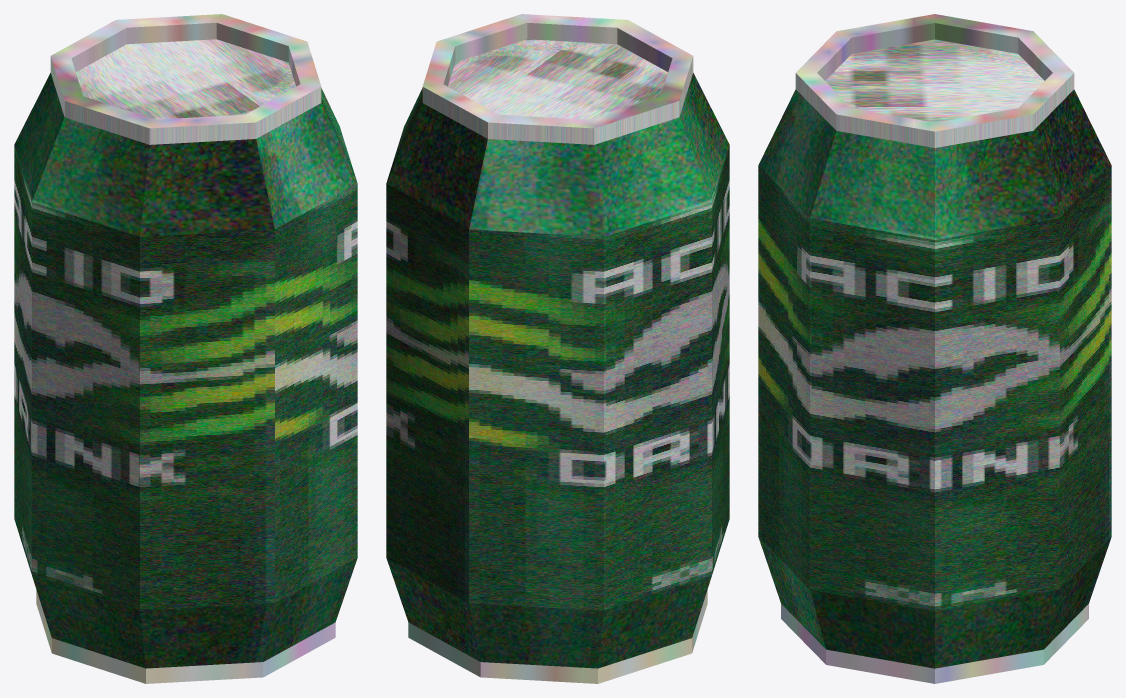
File: acid_green.glb
3 views of the same model, side by side, from view 1: azimuth 30°, elevation 25°; view 2: azimuth 150°, elevation 25°; view 3: azimuth 270°, elevation 25° (orthographic).
Parts seen in each view (by area): view 1: bottel02; view 2: bottel02; view 3: bottel02.
Boxes of the visible parts, box(x1,y1,x2,y2) form: bottel02: box(14, 14, 357, 683); bottel02: box(386, 14, 729, 683); bottel02: box(758, 14, 1111, 683).
Size of the model in its own units: 0.1584 by 0.2702 by 0.1584.
1 material, 1 textured.
